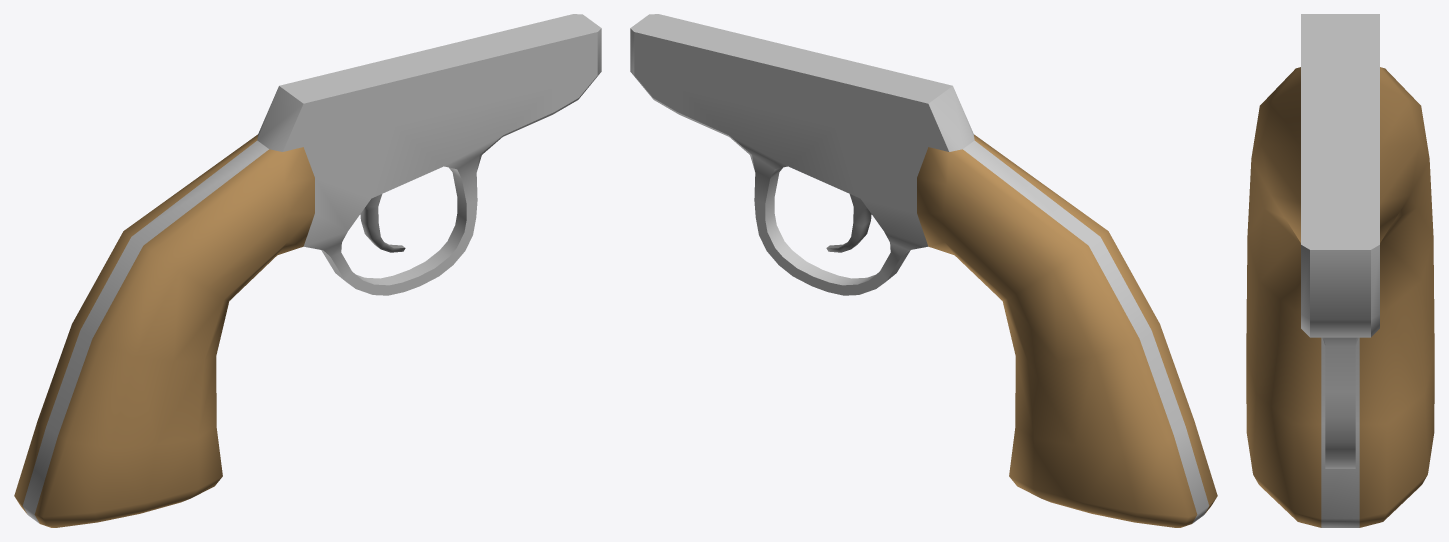
File: ToyHandleGun.FBX
3 views of the same model, side by side, from view 1: azimuth 30°, elevation 25°; view 2: azimuth 150°, elevation 25°; view 3: azimuth 270°, elevation 25° (orthographic). The views are drawn at different scales.
Parts seen in each view (by area): view 1: Revolver, Trigger; view 2: Revolver, Trigger; view 3: Revolver.
Part boxes in pixels (x1,y1,x2,y2): Revolver: [14, 14, 601, 527]; Trigger: [360, 194, 405, 252]; Revolver: [630, 14, 1217, 527]; Trigger: [826, 194, 871, 252]; Revolver: [1246, 14, 1434, 527].
Size of the model in its own units: 79.66 by 49.78 by 14.35.
